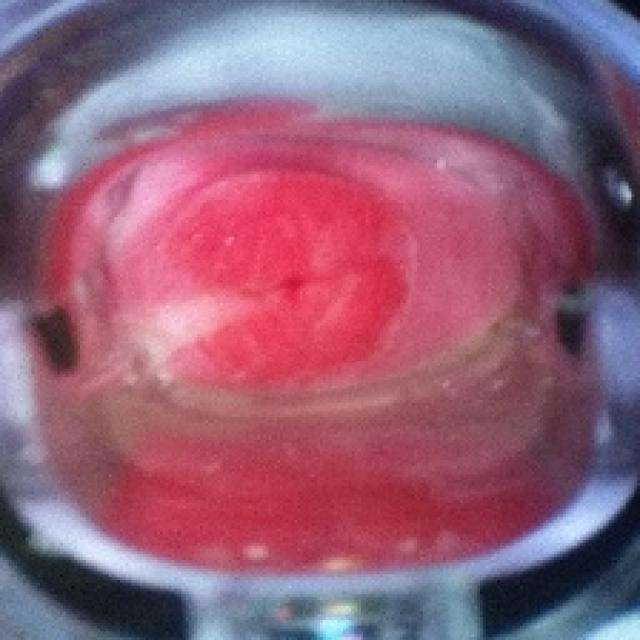type-2: (27, 60, 606, 602)
